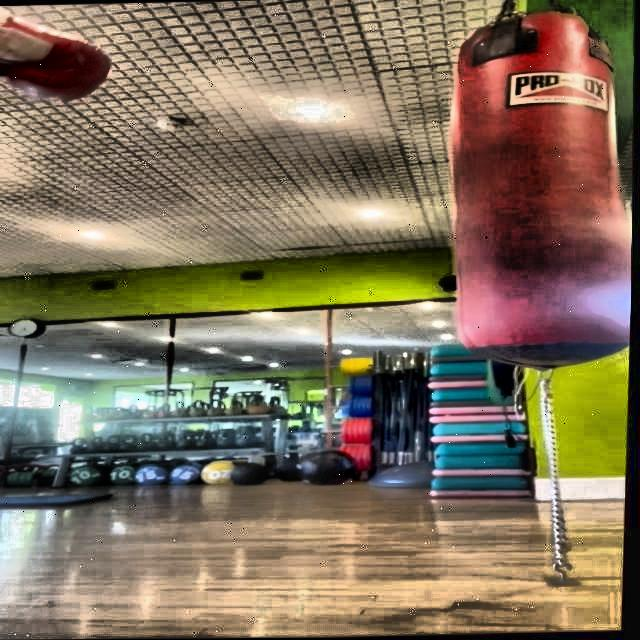boxing-bag: (449, 0, 640, 375)
